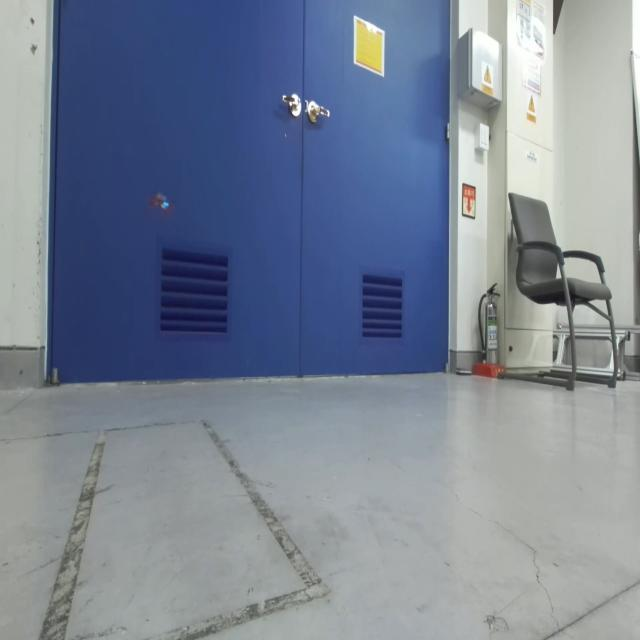crazyflie: (145, 185, 179, 223)
